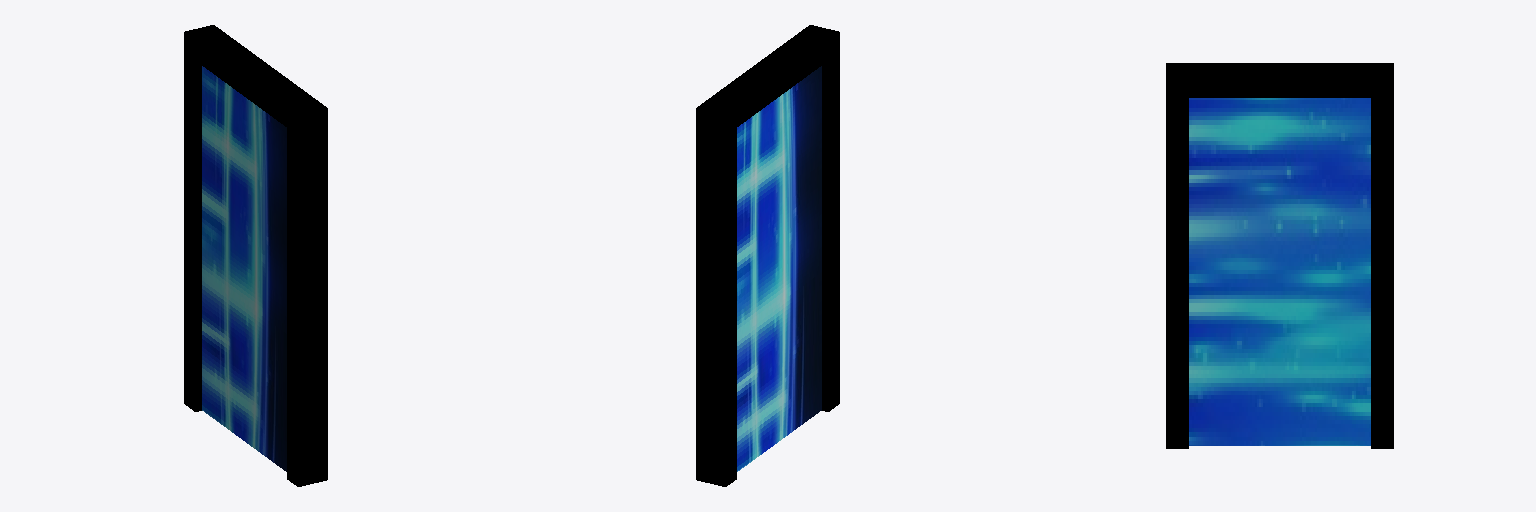
3 renders of one model, left to right at view 1: azimuth 30°, elevation 25°; view 2: azimuth 150°, elevation 25°; view 3: azimuth 270°, elevation 25°, orthographic.
Visible parts, largest first — view 1: Door_Cube.002; view 2: Door_Cube.002; view 3: Door_Cube.002.
Boxes of the visible parts, <box> form: Door_Cube.002: <box>184,25,327,486</box>; Door_Cube.002: <box>696,25,839,486</box>; Door_Cube.002: <box>1166,63,1393,448</box>.
Size of the model in its own units: 0.15 by 1.8 by 1.
Materials: 2 (1 with a texture image).